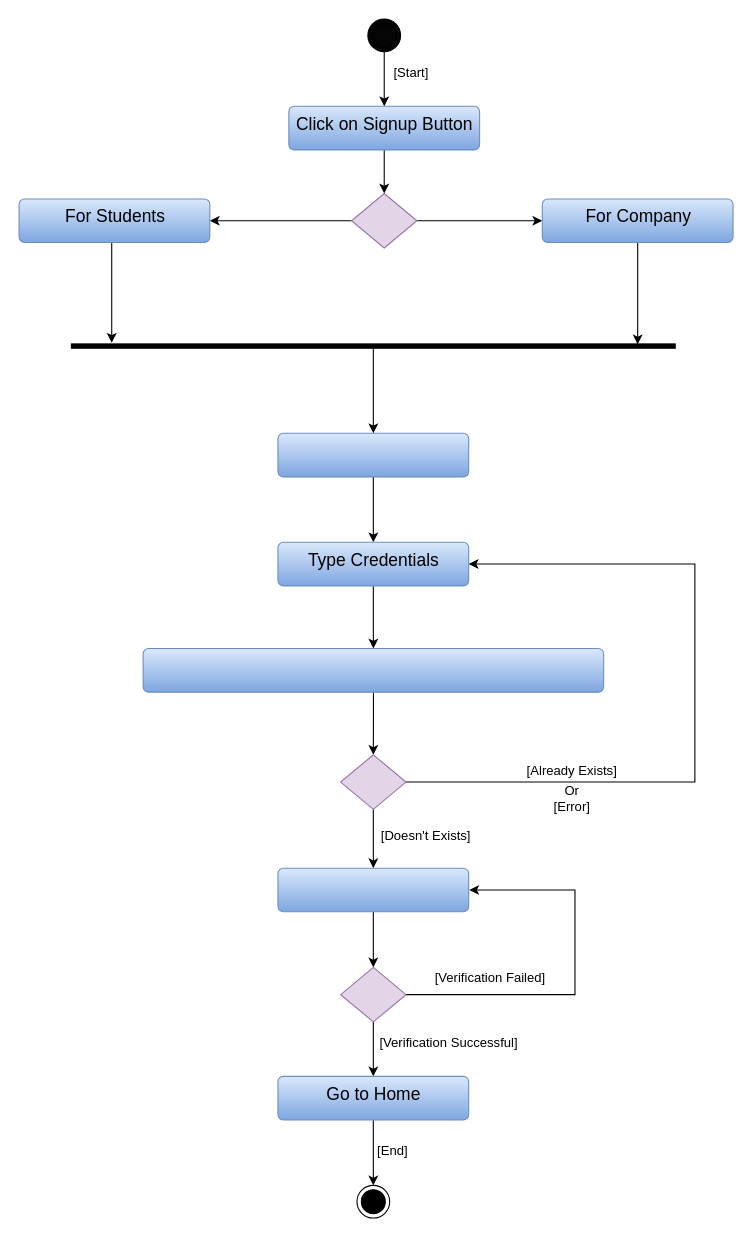
Some shapes in this 752 by 1237 pixel diagram are drawn without their labels. Here are the shapes that lost their labels. From the top down, the centre of each, then its label:
point 373,454: SignUp form opened
point 373,669: Account with given Username or Email ID already exists?
point 373,889: OTP Verification
